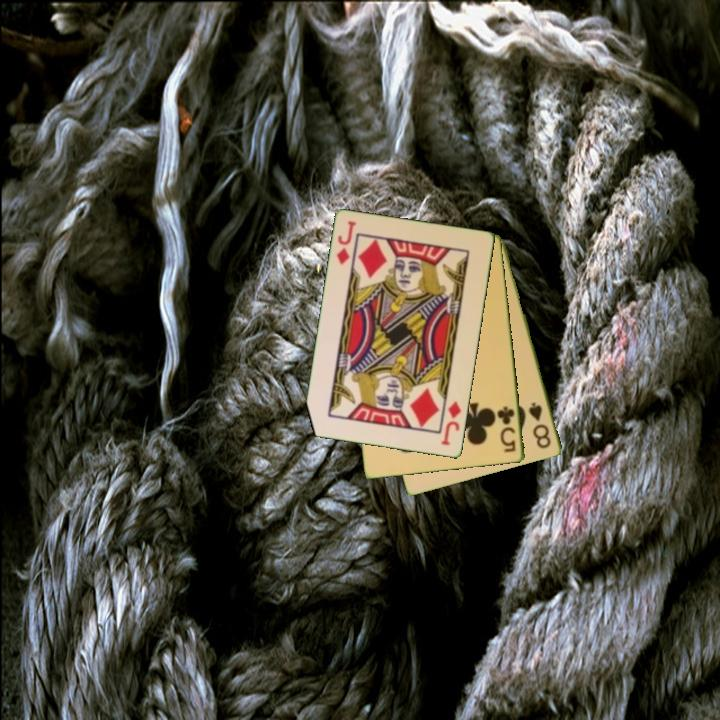5c: (494, 403, 519, 455)
8s: (525, 399, 554, 451)
Jd: (438, 398, 464, 448), (333, 218, 359, 268)
